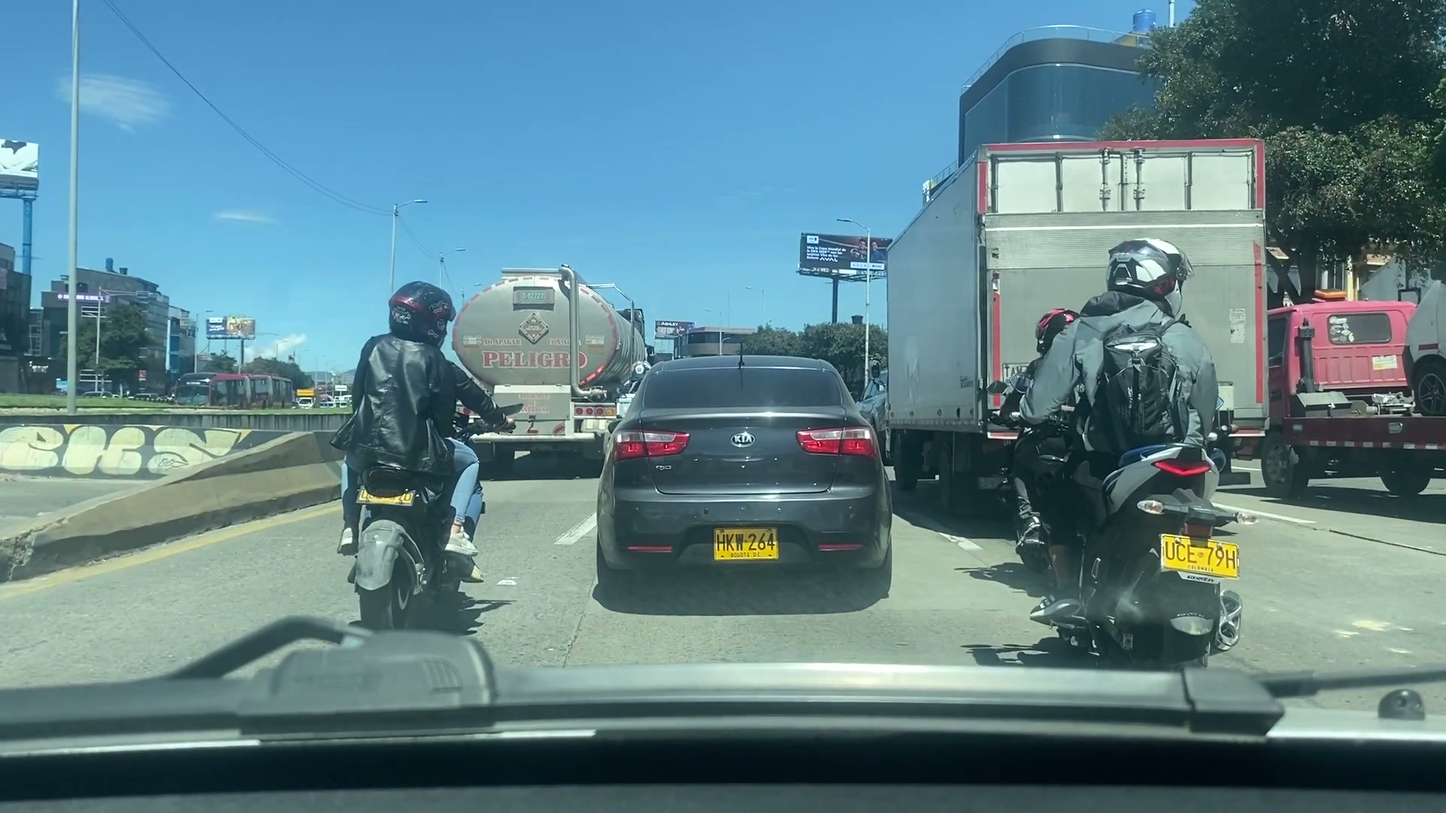car: (596, 357, 894, 598), (850, 373, 890, 442)
motorcycle: (1036, 438, 1245, 669), (315, 454, 498, 645)
person: (1007, 236, 1248, 636), (337, 279, 485, 586)
truck: (883, 133, 1268, 511), (451, 269, 654, 472), (1260, 300, 1432, 486)
